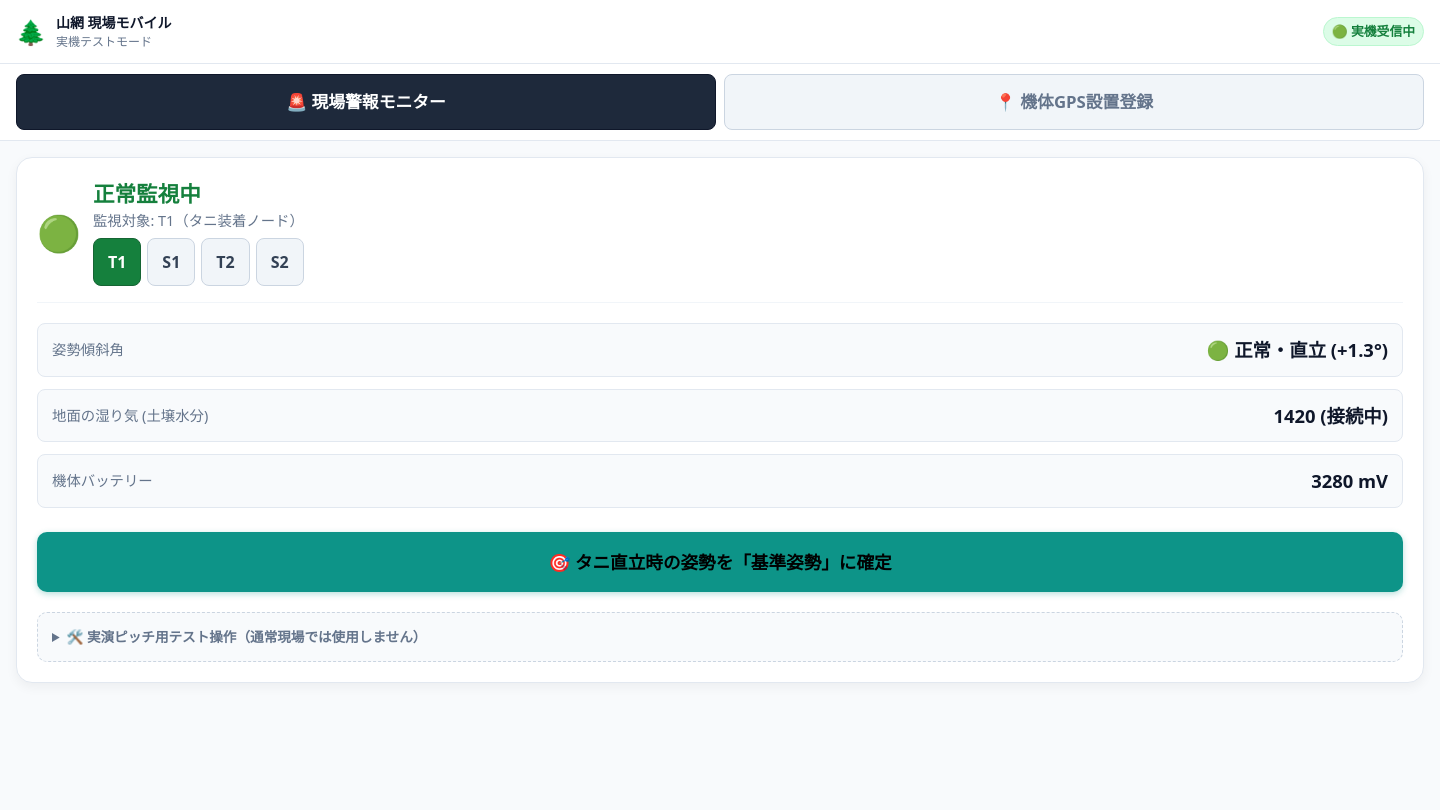
Scenario: MobileHome › 基準姿勢の POST /api/test-baseline が失敗したときは同期成功と偽装せず通信エラーを表示する (Issue #27)
Click the button "🎯 タニ直立時の姿勢を「基準姿勢」に確定" at coordinates (720, 562), box [37,532,1403,592]
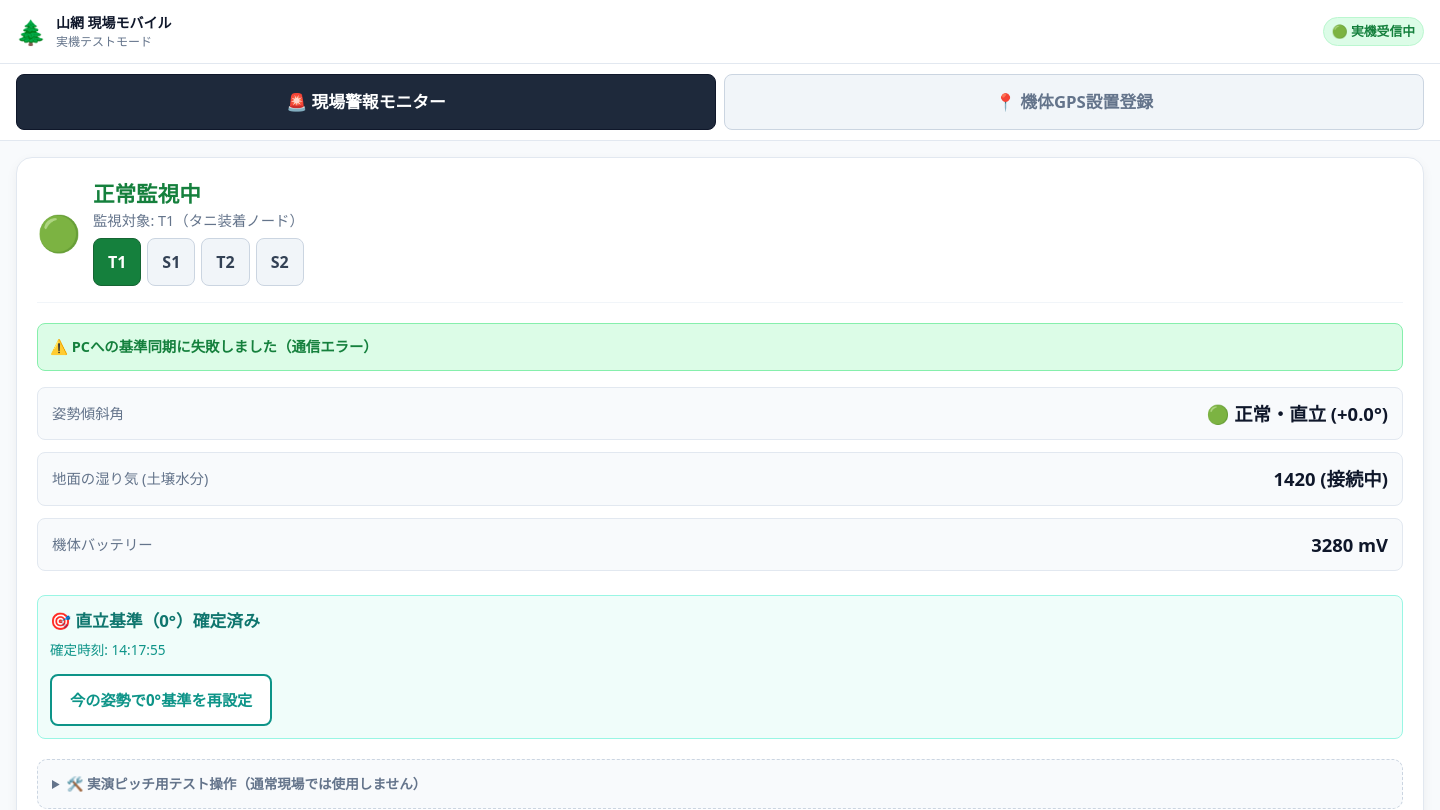
Expected: the text "⚠️ PCへの基準同期に失敗しました（通信エラー）" is shown, [37,323,1403,371]
